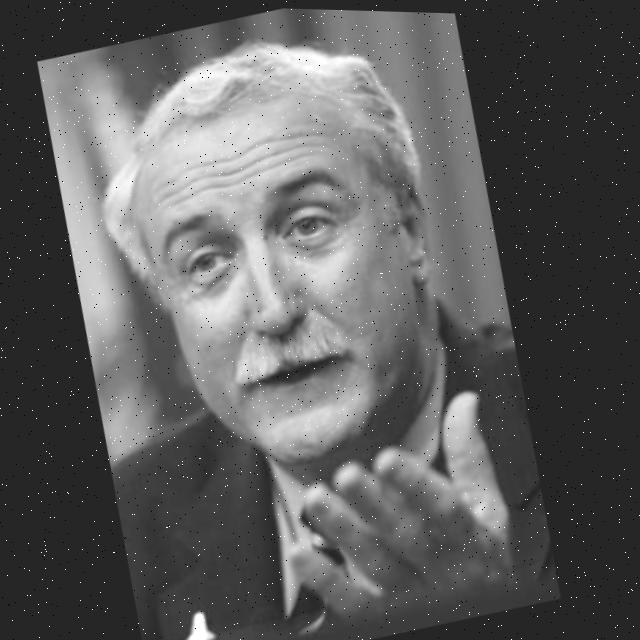face: (113, 68, 467, 490)
